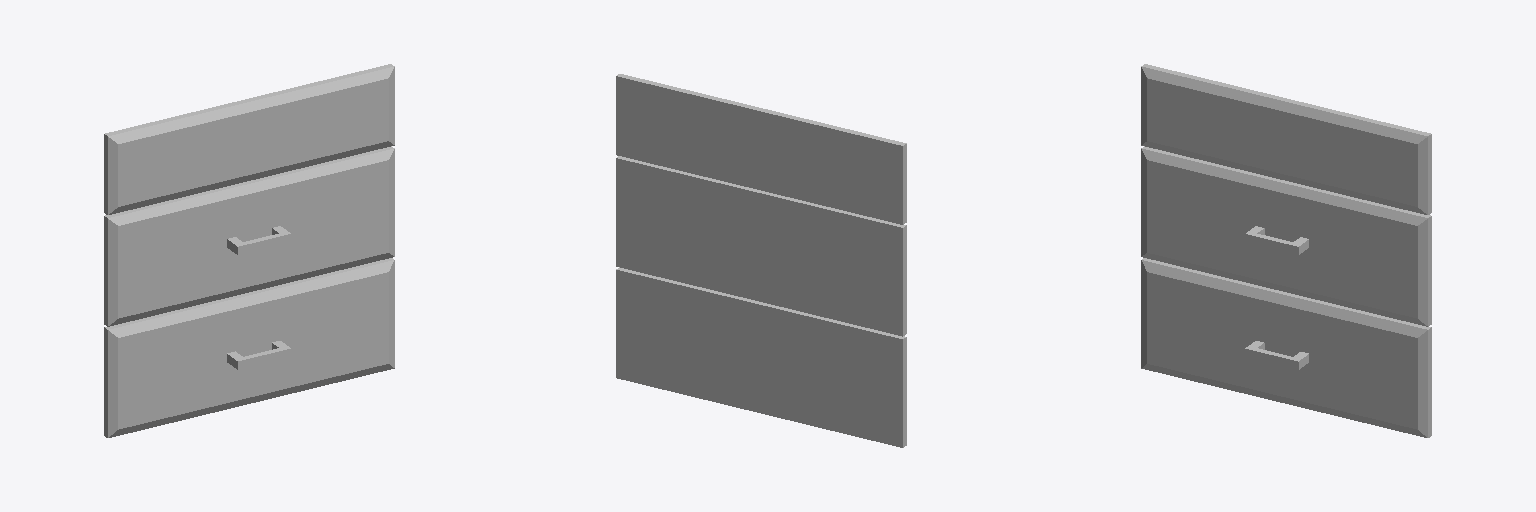
The model's file is counter_doors_3.obj.
3 renders of one model, left to right at view 1: azimuth 30°, elevation 25°; view 2: azimuth 150°, elevation 25°; view 3: azimuth 330°, elevation 25°, orthographic.
Bounding box in the file's own units: 12.96 × 13.04 × 1.32.